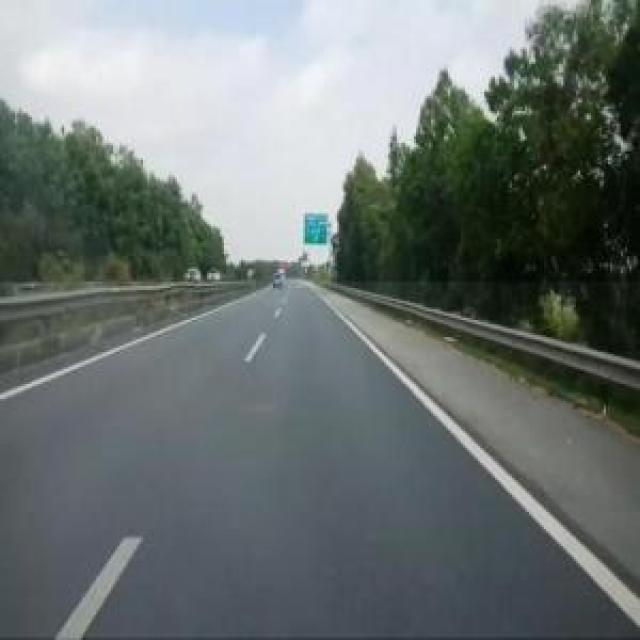clear-road: (0, 282, 640, 640)
